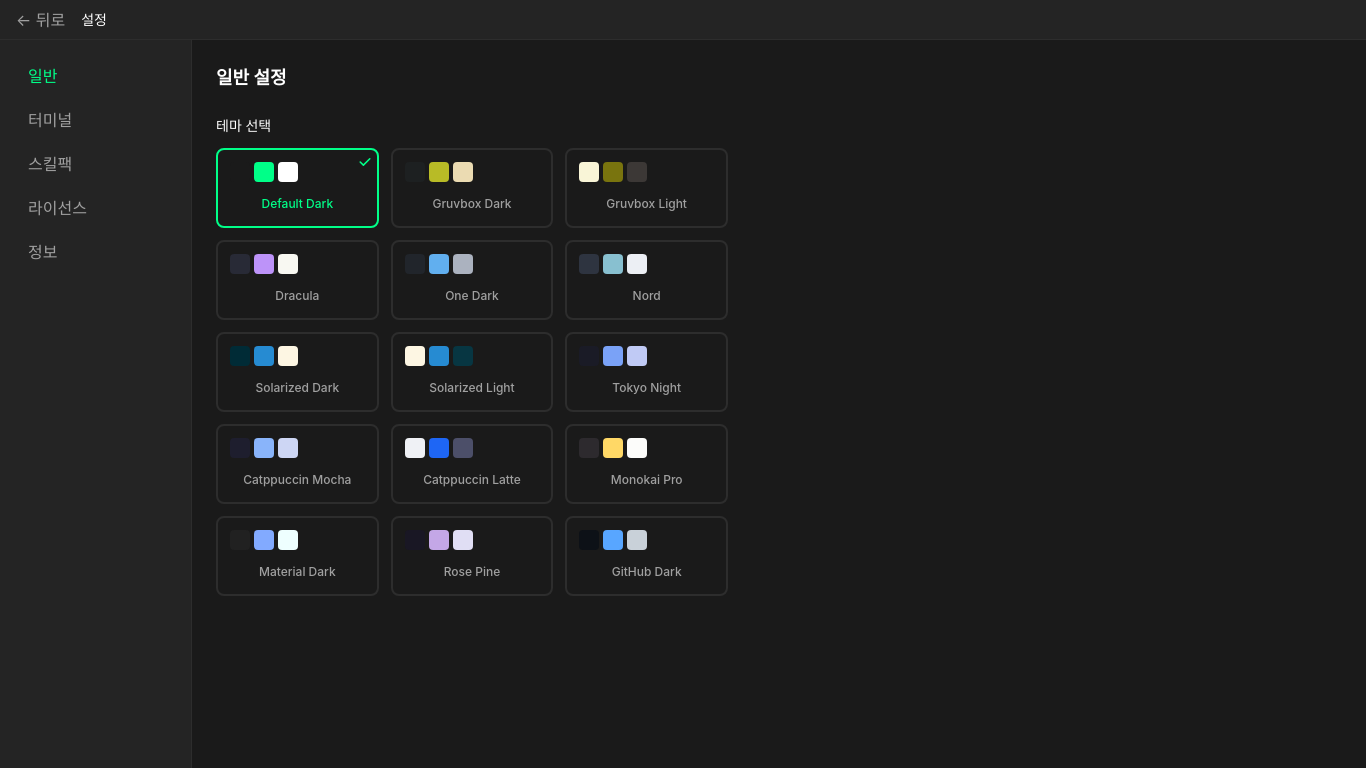
Test: SettingsPage › 2. 탭 전환 › should switch to skillpack tab when clicked
This screenshot has width=1366, height=768.
Click the button "스킬팩" at (96, 164), box left=16, top=144, right=175, bottom=184
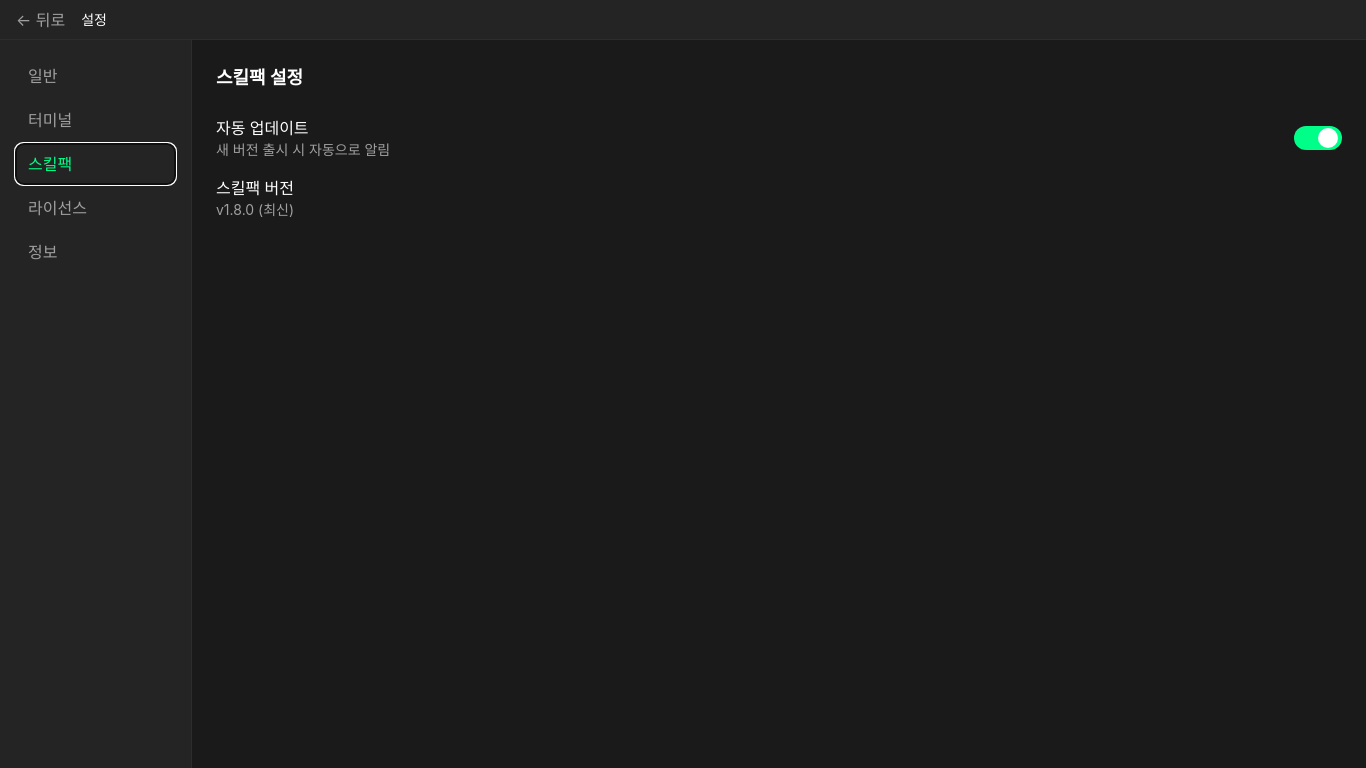
Result: the heading "스킬팩 설정" is shown at left=216, top=67, right=303, bottom=88
Result: the text "자동 업데이트" is shown at left=216, top=118, right=309, bottom=138
